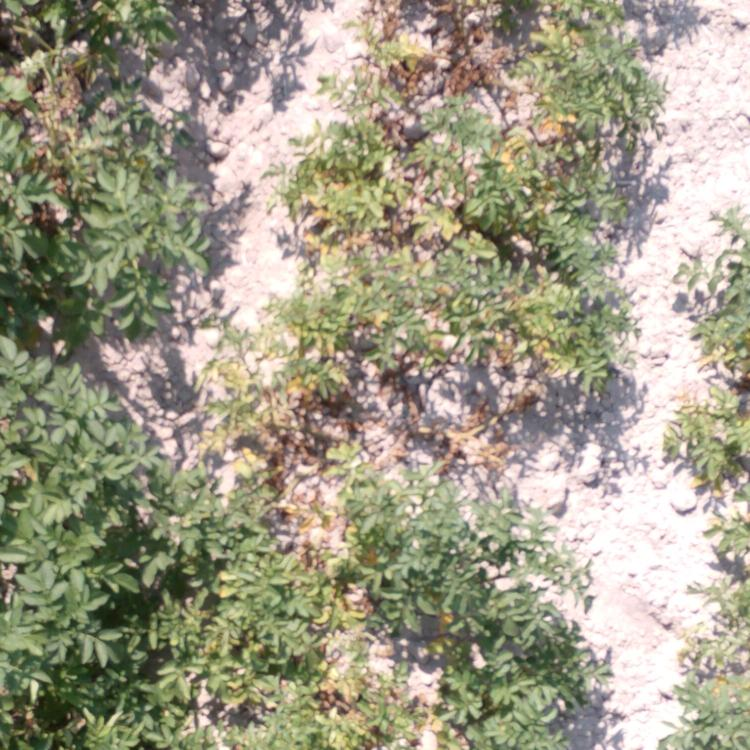healthy: (1, 64, 182, 311), (1, 620, 215, 750), (1, 308, 140, 485), (383, 488, 564, 619), (1, 491, 168, 625), (474, 620, 590, 750), (1, 1, 171, 60)
stressed: (294, 148, 629, 267), (255, 270, 609, 370), (192, 373, 474, 481), (223, 620, 462, 745), (176, 482, 368, 616), (361, 1, 657, 78), (320, 79, 659, 146), (679, 499, 750, 750), (671, 217, 750, 379), (651, 381, 750, 495)
